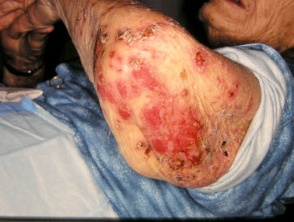SJS-TEN: (8, 0, 275, 201), (232, 0, 294, 67)
